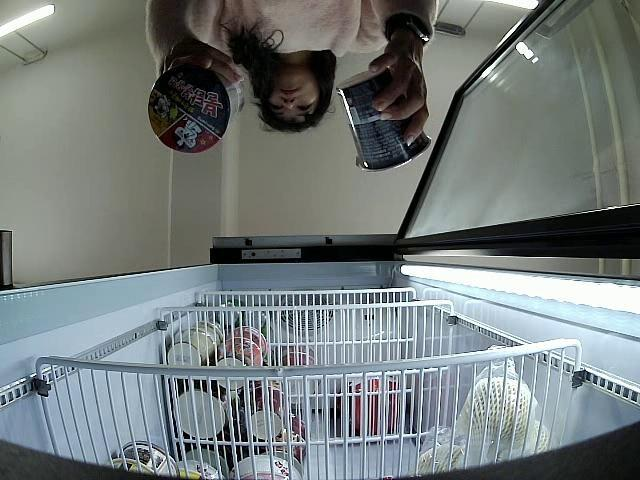08_buldak_S: (338, 63, 432, 172), (146, 63, 245, 153)
